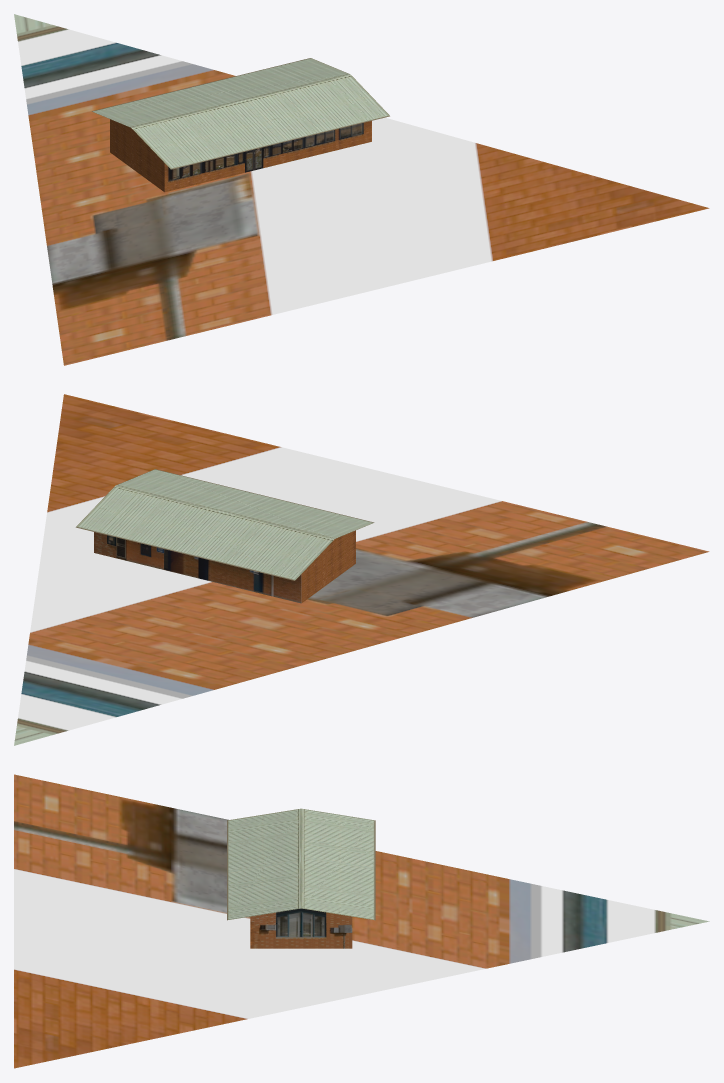
The model's file is terminal-small-03-18x11-cbj_LOD02.gltf.
3 views of the same model, one above another, from view 1: azimuth 30°, elevation 25°; view 2: azimuth 150°, elevation 25°; view 3: azimuth 270°, elevation 25° (orthographic). The views are drawn at different scales.
Parts seen in each view (by area): view 1: Sketchup02; view 2: Sketchup02; view 3: Sketchup02.
Boxes of the visible parts, x1,y1,x2,y2 form: Sketchup02: [14, 14, 709, 365]; Sketchup02: [14, 394, 709, 745]; Sketchup02: [14, 774, 709, 1068].
Bounding box in the file's own units: 53.29 × 5.62 × 53.29.
